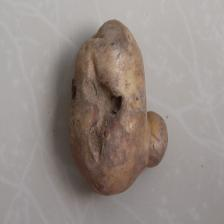Diseased-fungal potato: (67, 18, 168, 196)
